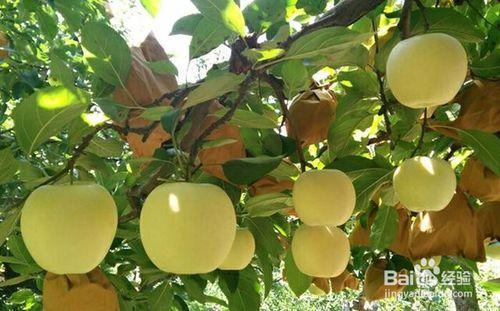apple: (18, 180, 118, 274), (139, 181, 236, 275), (387, 32, 468, 109), (292, 168, 355, 227), (393, 156, 458, 213), (290, 225, 352, 277)
